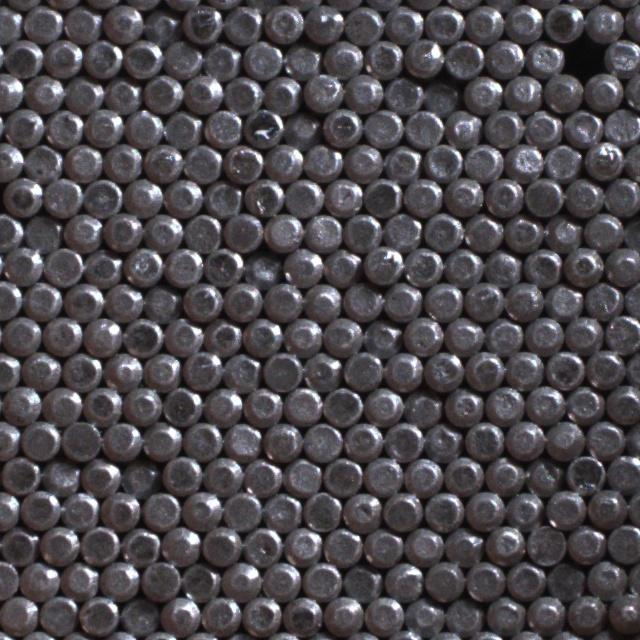tool: (140, 557, 182, 598), (2, 242, 42, 284), (504, 418, 544, 459), (102, 210, 142, 251), (525, 522, 565, 563), (584, 418, 624, 459), (564, 452, 605, 492), (585, 485, 625, 526), (302, 488, 342, 529), (322, 384, 362, 424), (202, 107, 242, 147), (524, 383, 564, 423), (200, 592, 240, 632), (544, 487, 584, 527), (342, 420, 382, 460), (344, 4, 384, 44), (222, 280, 262, 320), (38, 593, 78, 633), (79, 522, 119, 562), (163, 245, 203, 285), (563, 107, 603, 147), (262, 421, 302, 461), (201, 523, 241, 563), (38, 522, 78, 562), (422, 348, 462, 388), (444, 38, 484, 78), (484, 523, 524, 563), (362, 594, 402, 634), (584, 346, 624, 386), (342, 489, 382, 529), (242, 315, 282, 355), (542, 70, 582, 110), (62, 349, 102, 389), (182, 4, 222, 44), (3, 107, 43, 147), (382, 560, 422, 600), (323, 455, 363, 495), (382, 210, 422, 250), (565, 591, 605, 631), (182, 488, 222, 528), (162, 452, 202, 492), (262, 349, 302, 389), (563, 244, 603, 284), (442, 454, 482, 494), (101, 418, 140, 459), (323, 592, 362, 633), (61, 418, 100, 459), (364, 37, 403, 78), (160, 593, 199, 634), (283, 592, 321, 634), (99, 559, 138, 599), (322, 107, 362, 146), (424, 560, 463, 600), (225, 210, 264, 250), (42, 384, 82, 423), (504, 212, 543, 252), (123, 38, 162, 78), (223, 4, 262, 44), (404, 36, 443, 76), (424, 3, 464, 42), (242, 524, 281, 564), (424, 210, 463, 250), (342, 280, 382, 319), (141, 489, 181, 528), (143, 140, 182, 180), (403, 245, 442, 285), (124, 246, 163, 286), (545, 418, 584, 458), (223, 488, 262, 528), (363, 244, 402, 284), (524, 591, 564, 630), (224, 142, 263, 182), (44, 244, 83, 284), (22, 279, 61, 319), (463, 418, 502, 458), (63, 210, 102, 250), (242, 38, 282, 77), (464, 560, 503, 600), (363, 385, 402, 425), (423, 139, 462, 179), (423, 490, 462, 530), (403, 524, 442, 564), (121, 525, 160, 565), (323, 525, 362, 565), (21, 349, 61, 388), (464, 489, 503, 529), (381, 281, 420, 321), (141, 418, 180, 458), (183, 419, 223, 458), (443, 174, 483, 213), (241, 594, 280, 634), (282, 247, 322, 286), (144, 210, 183, 250), (323, 314, 362, 354), (101, 488, 140, 528), (162, 385, 202, 424), (423, 280, 462, 320), (1, 314, 40, 354), (484, 384, 523, 424), (282, 314, 321, 354), (83, 245, 122, 285), (58, 560, 98, 599), (544, 348, 583, 388), (283, 384, 322, 424), (464, 348, 503, 388), (82, 384, 122, 423), (182, 142, 222, 181), (261, 560, 300, 600), (565, 522, 604, 562), (443, 525, 483, 564), (382, 490, 421, 530), (483, 176, 522, 216), (182, 72, 222, 111), (2, 174, 41, 214), (184, 213, 223, 253), (120, 456, 159, 496), (383, 420, 422, 460), (323, 175, 362, 215), (263, 72, 302, 112), (484, 454, 523, 494), (363, 174, 402, 214), (344, 71, 384, 110), (202, 454, 241, 494), (80, 456, 120, 495), (202, 40, 241, 80), (361, 316, 400, 356), (0, 522, 39, 562), (341, 560, 381, 599), (546, 559, 586, 598), (203, 315, 242, 355), (6, 36, 45, 76), (79, 593, 117, 634), (584, 138, 622, 179), (505, 560, 544, 599), (302, 421, 341, 460), (20, 419, 59, 458), (123, 384, 162, 423), (403, 107, 442, 146), (63, 281, 102, 320), (503, 488, 542, 527), (464, 212, 503, 251), (23, 142, 62, 181), (303, 71, 342, 110), (243, 385, 282, 424), (84, 107, 123, 146), (103, 282, 142, 321), (403, 314, 442, 353), (21, 488, 60, 527), (483, 109, 522, 148), (243, 177, 282, 216), (403, 456, 442, 495), (42, 314, 81, 353), (342, 348, 381, 387), (162, 108, 201, 147), (463, 141, 502, 180), (443, 315, 482, 354), (264, 211, 303, 250), (323, 39, 362, 78), (382, 349, 421, 388), (263, 281, 302, 320), (564, 384, 603, 423), (504, 349, 543, 388), (403, 176, 442, 215), (383, 4, 422, 43), (102, 4, 141, 43), (123, 315, 162, 354), (183, 349, 222, 388), (119, 596, 158, 635), (82, 315, 121, 354), (363, 526, 402, 565), (0, 454, 39, 493), (161, 523, 200, 562), (182, 282, 221, 321), (563, 313, 602, 352), (342, 211, 381, 250), (443, 245, 482, 284), (43, 174, 82, 213), (543, 213, 582, 252), (41, 454, 80, 493), (163, 177, 202, 216), (283, 177, 322, 216), (302, 349, 341, 388), (563, 176, 602, 215), (585, 558, 624, 597), (583, 3, 622, 42), (182, 561, 221, 600), (304, 4, 343, 43), (543, 3, 582, 42), (64, 141, 102, 181), (504, 280, 542, 320), (442, 386, 482, 424), (62, 4, 100, 44), (265, 141, 303, 181), (163, 316, 201, 356), (44, 37, 82, 77), (485, 36, 523, 76), (583, 210, 621, 250), (20, 559, 58, 599), (103, 141, 141, 181), (124, 176, 162, 216), (84, 38, 122, 78), (222, 558, 260, 598), (84, 177, 122, 217), (364, 454, 402, 494), (223, 419, 261, 458), (544, 140, 582, 179), (24, 3, 62, 42), (45, 107, 83, 146), (203, 385, 241, 424), (304, 211, 342, 250), (302, 281, 340, 320), (403, 388, 441, 427), (504, 2, 542, 41), (283, 524, 322, 562), (343, 142, 382, 180), (523, 246, 561, 285), (2, 383, 40, 422), (583, 280, 621, 319), (203, 179, 241, 218), (443, 596, 482, 634), (506, 139, 544, 178), (583, 72, 622, 110), (465, 3, 503, 42), (364, 108, 403, 146), (482, 247, 521, 285), (243, 456, 282, 494), (423, 421, 461, 460), (465, 280, 503, 319), (264, 490, 302, 529), (264, 3, 302, 42), (524, 314, 563, 352), (222, 351, 260, 390), (524, 175, 562, 214), (504, 72, 542, 111), (61, 490, 99, 529), (143, 349, 181, 388), (105, 350, 144, 388), (23, 212, 62, 250), (463, 74, 502, 112), (142, 72, 181, 110), (484, 315, 522, 354), (404, 596, 443, 634), (384, 75, 423, 113), (384, 142, 422, 181), (223, 74, 262, 112), (141, 6, 180, 44), (484, 593, 522, 632), (523, 456, 562, 494), (245, 110, 284, 148), (203, 249, 242, 287), (0, 593, 37, 633), (302, 560, 340, 598), (303, 142, 341, 180), (124, 107, 162, 145), (525, 38, 563, 76), (142, 283, 180, 321), (322, 246, 360, 284), (524, 107, 562, 145), (163, 38, 201, 76), (25, 73, 63, 111), (64, 74, 102, 112), (602, 176, 640, 214), (283, 456, 321, 494), (603, 105, 640, 144), (605, 520, 640, 561), (544, 282, 582, 319), (103, 75, 141, 112), (445, 108, 483, 145), (244, 248, 282, 285), (283, 40, 320, 78), (283, 108, 320, 146), (422, 78, 459, 116), (564, 35, 601, 73), (604, 383, 640, 422), (604, 312, 640, 351), (605, 244, 640, 284), (606, 450, 640, 490), (607, 589, 640, 630), (605, 36, 640, 74), (0, 140, 23, 180), (0, 210, 23, 250), (0, 70, 23, 110), (0, 4, 23, 43), (0, 278, 21, 318), (0, 350, 21, 389), (0, 488, 20, 527), (0, 418, 19, 458), (0, 558, 18, 598), (623, 278, 640, 318), (622, 215, 640, 252), (623, 141, 640, 180)
